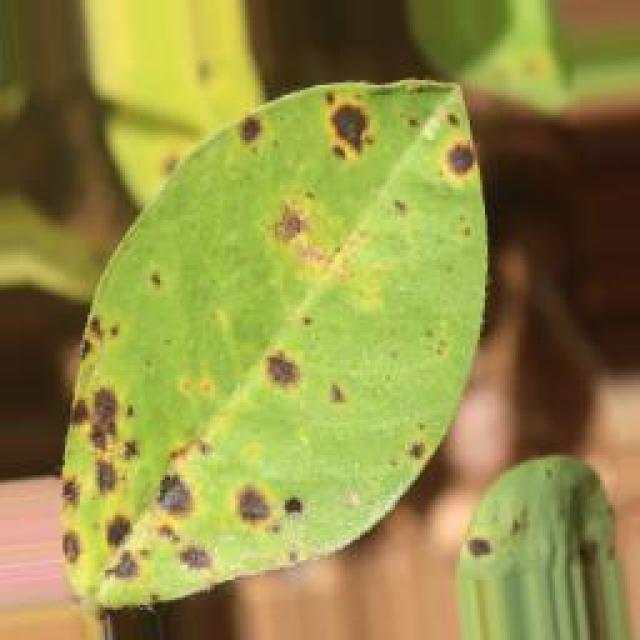Yellowish: (33, 87, 614, 579)
